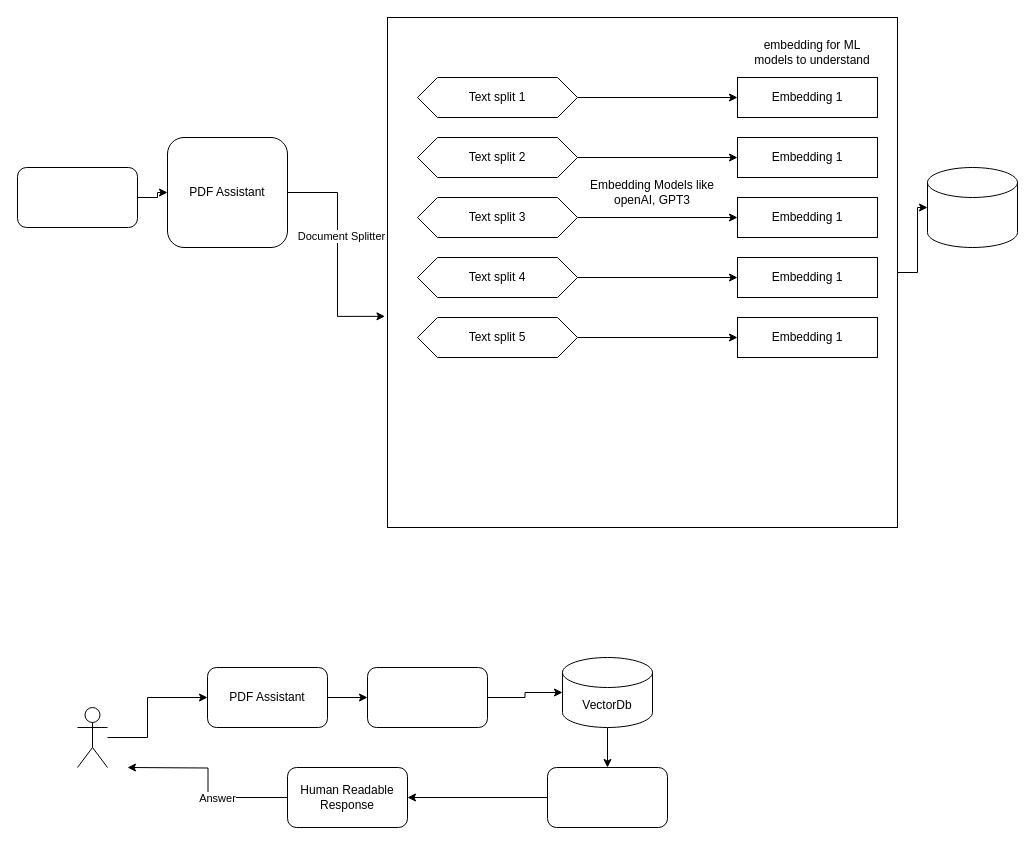
Some shapes in this 1035 by 845 pixel diagram are drawn without their labels. Here are the shapes that lost their labels. From the top down, the centre of each, then its label:
(x=77, y=197): PDF
(x=972, y=207): Vector DB
(x=427, y=697): Query Embedding
(x=92, y=737): Actor
(x=607, y=797): Chat languge Model
